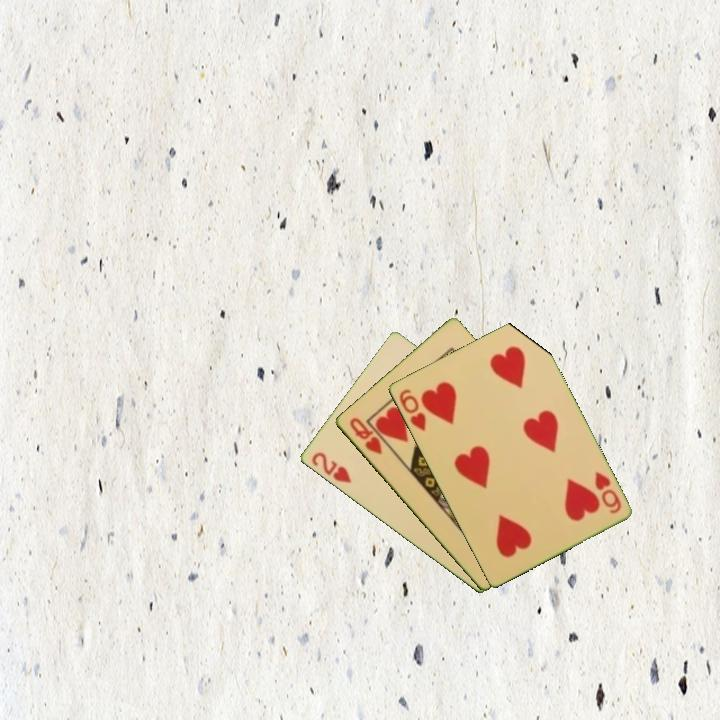2h: (307, 448, 354, 486)
6h: (395, 385, 429, 434), (591, 468, 624, 517)
Qh: (346, 414, 385, 457)
